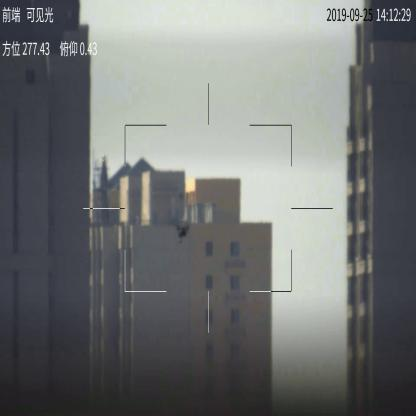uav: (174, 221, 192, 246)
